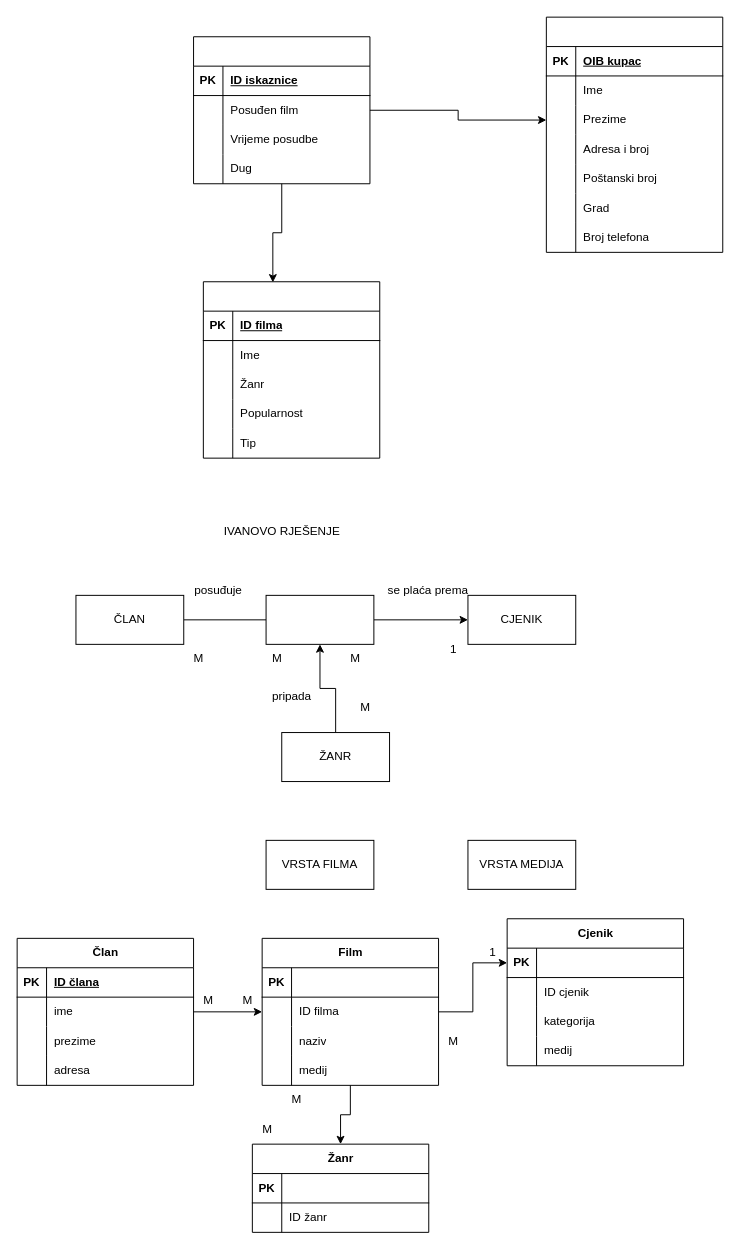
The diagram is 740 pixels wide and 1250 high, and some of its shapes have lost their labels. The shapes that lost their labels are listed below. From the top down, each one's box as (x1, y1, x2, y2) in pixels, then its label:
(193, 36, 370, 184): Član videoteke
(545, 16, 723, 252): Podatci člana
(202, 281, 380, 458): Podatci o filmu
(265, 594, 374, 644): FLIM
